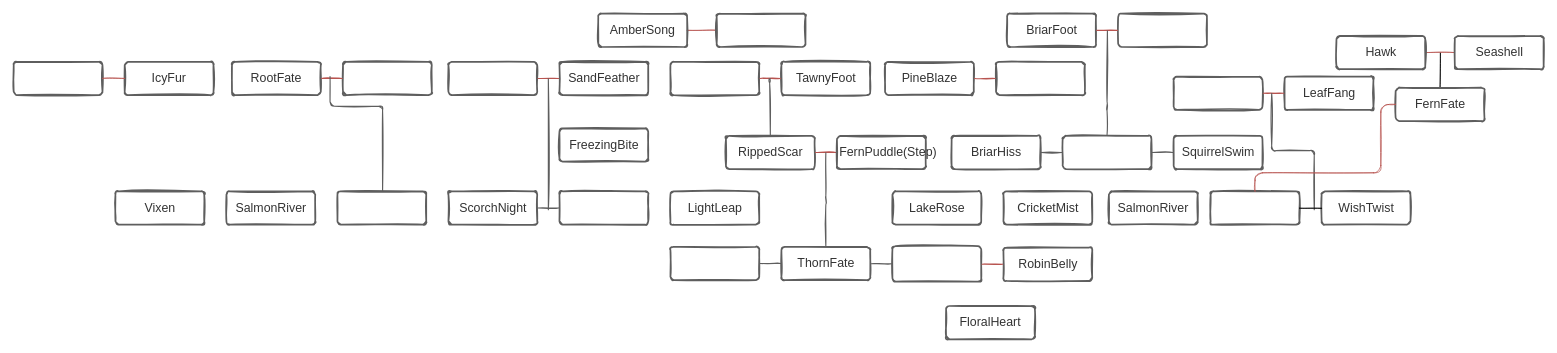
The diagram is 1557 pixels wide and 353 high, and some of its shapes have lost their labels. Here are the shapes that lost their labels. From the top down, the box of each, then its label:
(716, 13, 806, 48): BlueThroat
(1117, 13, 1207, 48): SandPool
(13, 61, 103, 96): MistFate
(342, 61, 432, 96): WetClaw
(447, 61, 538, 96): RedSpot
(669, 61, 760, 96): TallEye
(995, 61, 1085, 96): MousePaw
(1172, 75, 1263, 110): FlameFace
(1061, 135, 1152, 170): ThistleClaws
(336, 190, 427, 225): SparkCall
(558, 190, 649, 225): StormingCall
(1209, 190, 1300, 225): TigerLeap
(669, 246, 760, 281): BloomStep
(891, 245, 982, 282): MapleFreckle
